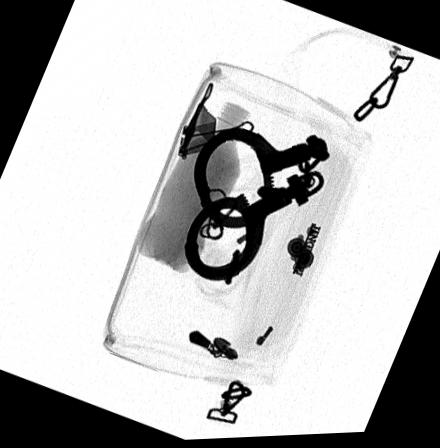HandCuffs: (185, 128, 331, 287)
